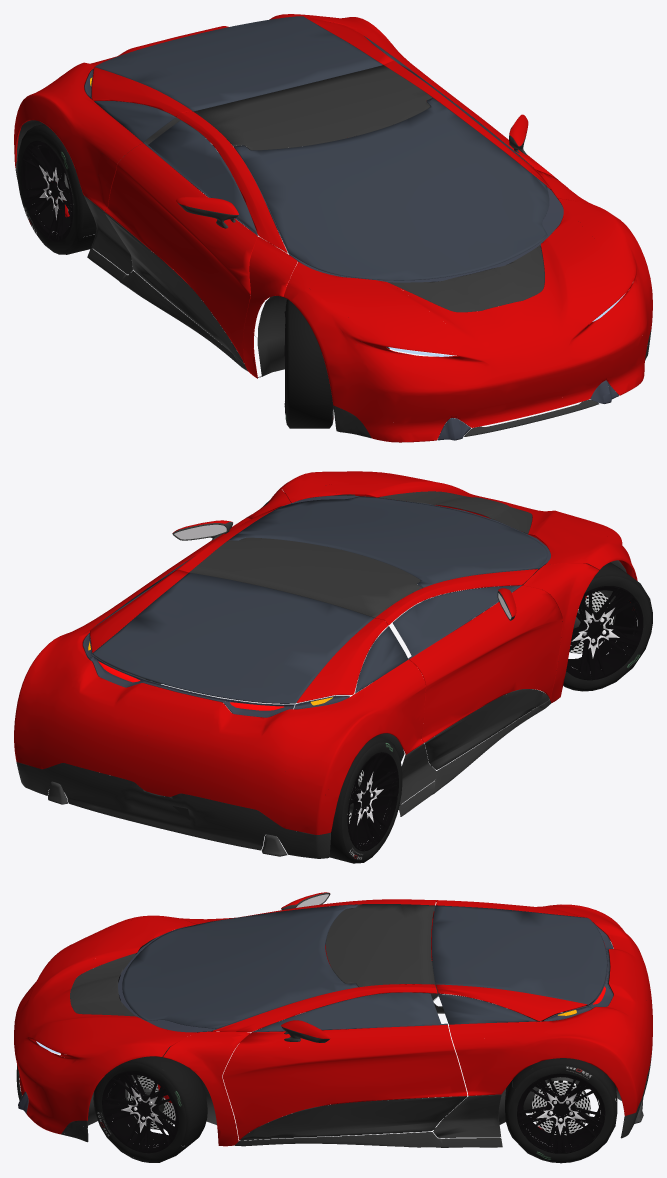
Rendered from car_concept.glb.
The picture shows the model from 3 angles, top to bottom: view 1: azimuth 30°, elevation 25°; view 2: azimuth 150°, elevation 25°; view 3: azimuth 270°, elevation 25°; orthographic projection. The views are drawn at different scales.
Visible parts, largest first — view 1: Body, Wheel_RR, Wheel_FR; view 2: Body, Wheel_FR, Wheel_RR; view 3: Body, Wheel_FL, Wheel_RL.
Part boxes in pixels (left/top/right/bottom): Body: left=14, top=14, right=652, bottom=442; Wheel_RR: left=17, top=124, right=105, bottom=254; Wheel_FR: left=284, top=299, right=333, bottom=428; Body: left=14, top=471, right=637, bottom=858; Wheel_FR: left=562, top=562, right=652, bottom=691; Wheel_RR: left=329, top=736, right=402, bottom=863; Body: left=14, top=892, right=652, bottom=1147; Wheel_FL: left=93, top=1050, right=207, bottom=1162; Wheel_RL: left=505, top=1058, right=617, bottom=1163.
Size of the model in its own units: 2.54 by 1.15 by 4.36.
Materials: 15 (3 with a texture image).
